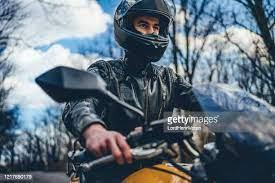helmet: (105, 0, 176, 66)
